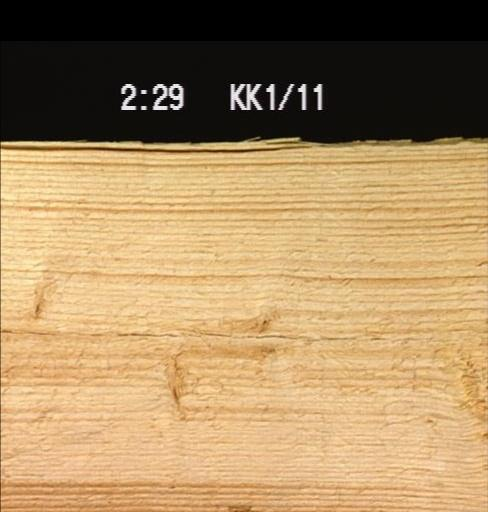split: (0, 317, 479, 345), (0, 140, 319, 155)
